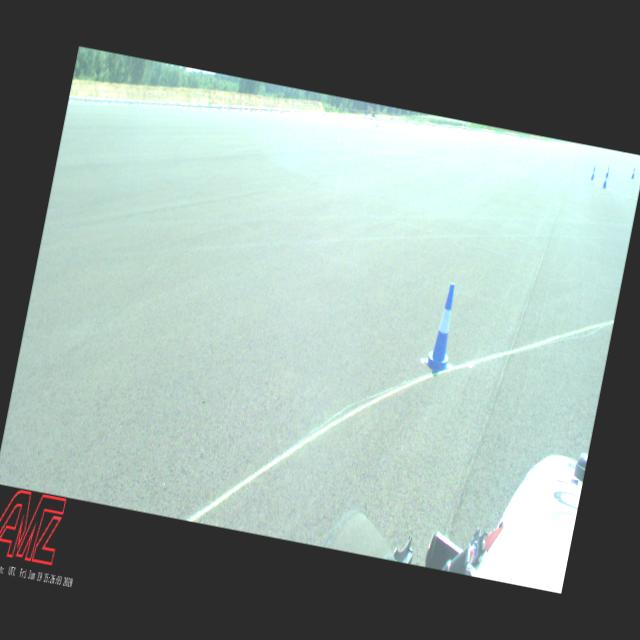blue_cone: (423, 281, 466, 375), (602, 172, 608, 188), (591, 167, 596, 180), (606, 165, 610, 178), (632, 168, 636, 178)
